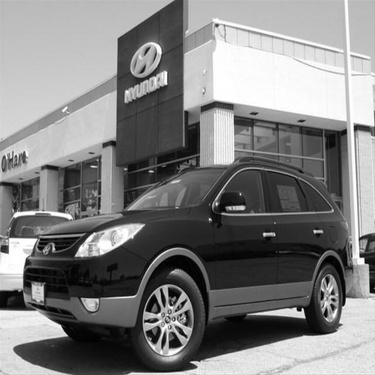car: (26, 150, 372, 357), (1, 196, 72, 299)
